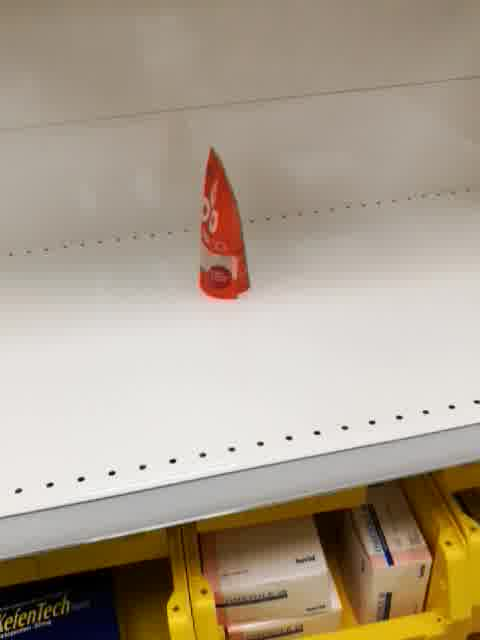whitechia: (192, 144, 253, 302)
